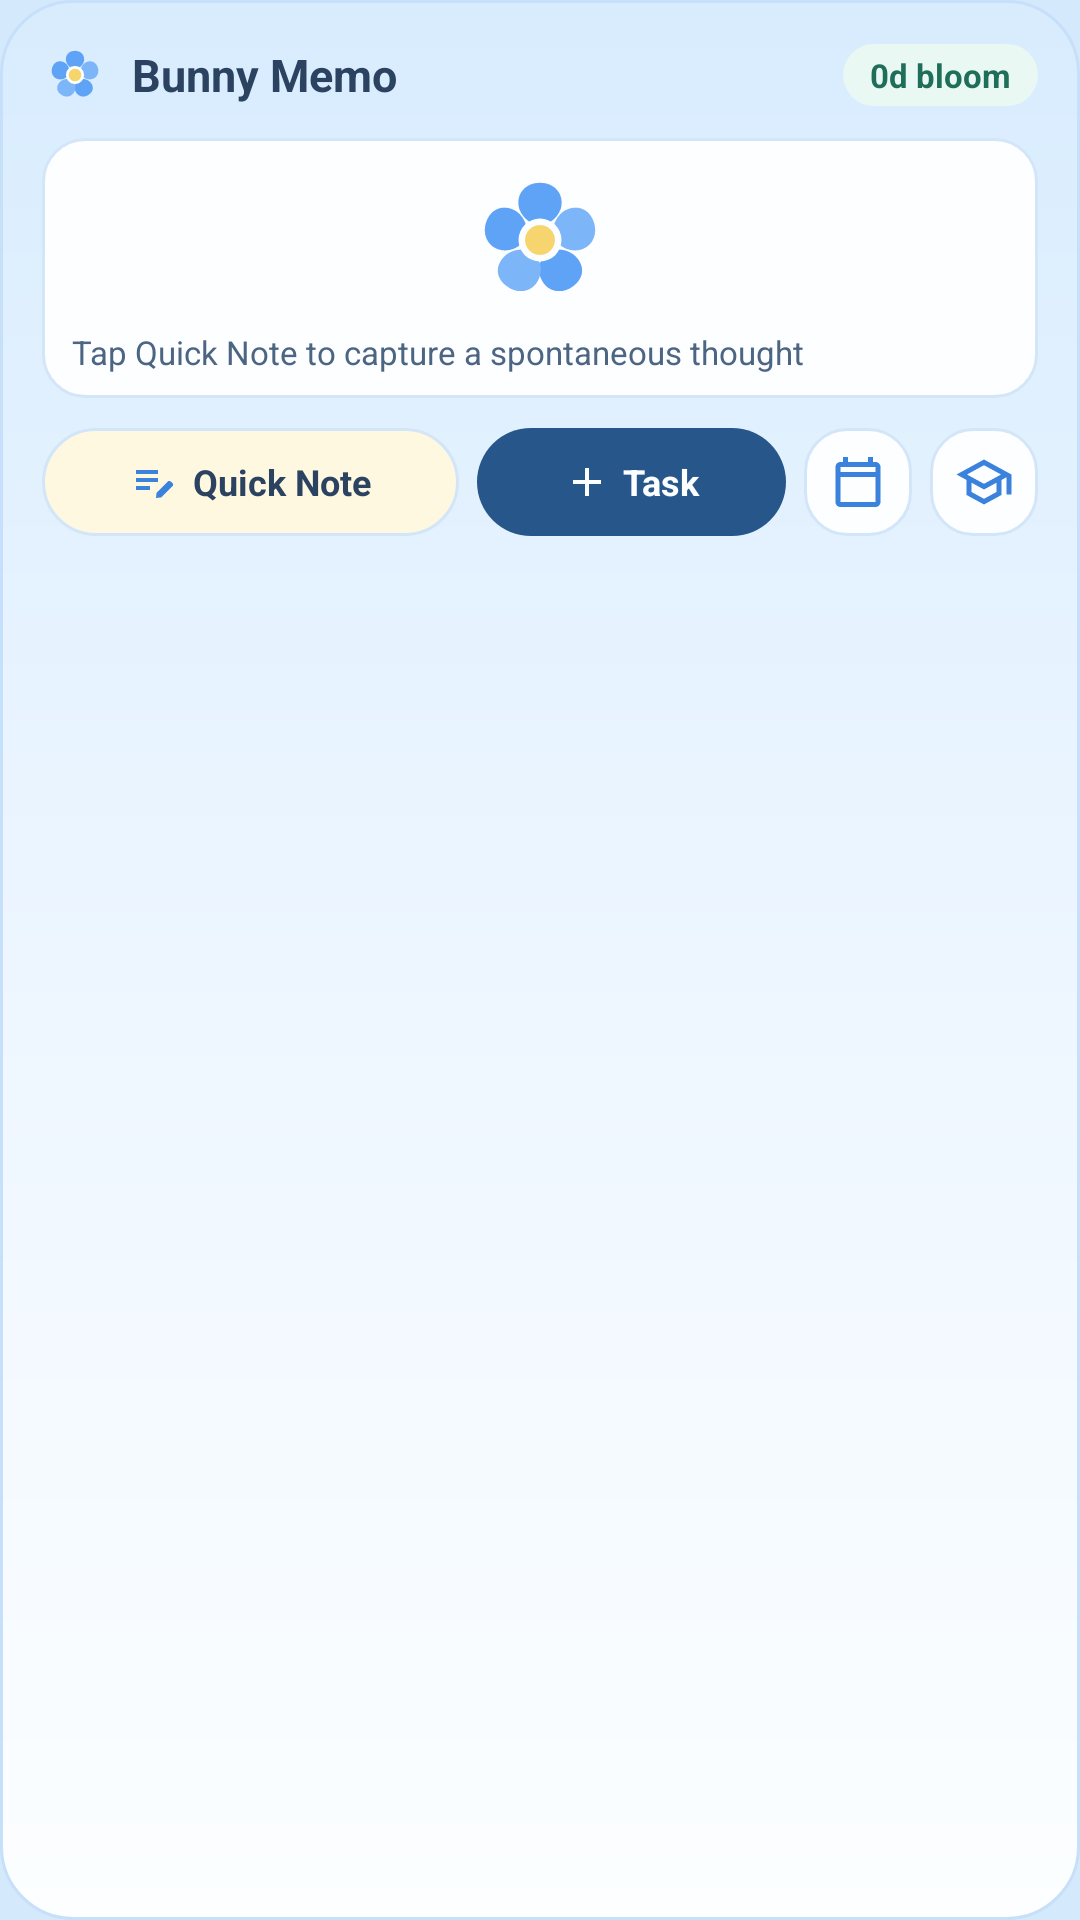

Icon click points for this 1080px x 1920px phone screenshot, format (x=x, y=y):
Calendar: (x=858, y=482)
Classes: (x=984, y=482)
widget add: (x=587, y=482)
